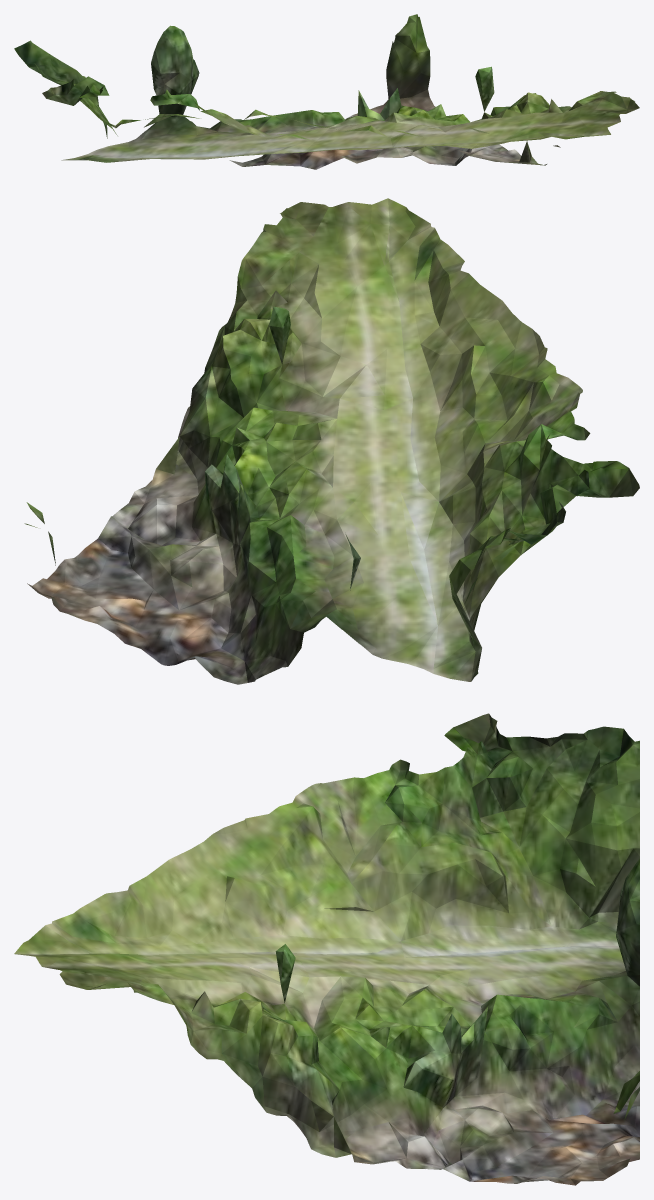
The picture shows the model from 3 angles, top to bottom: view 1: azimuth 30°, elevation 25°; view 2: azimuth 150°, elevation 25°; view 3: azimuth 270°, elevation 25°; orthographic projection. The views are drawn at different scales.
Bounding box in the file's own units: 24.24 × 9.37 × 23.47.
Materials: 2 (2 with a texture image).
